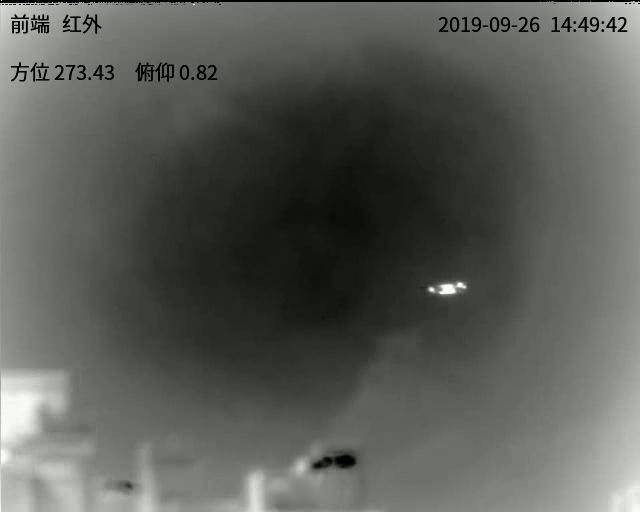DRONE: (428, 279, 467, 297)
